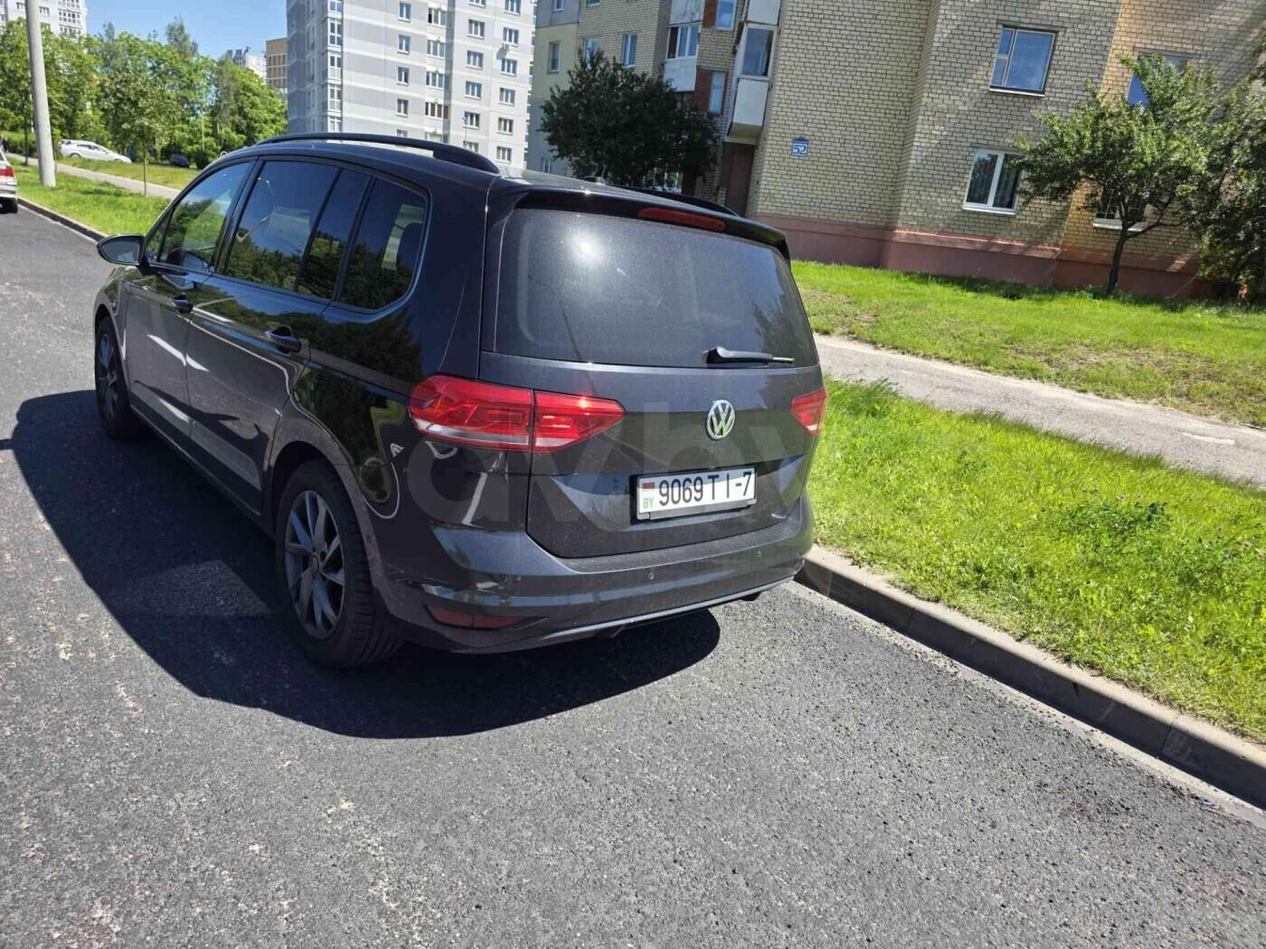Touran_2015: (90, 134, 825, 675)
